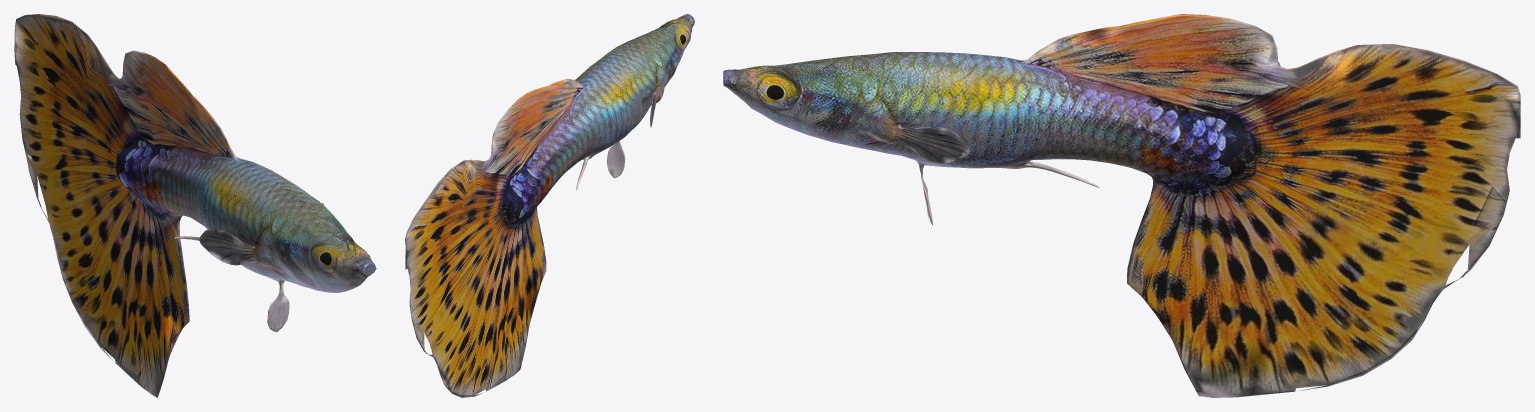
File: strain-yellow_leopard.glb
3 renders of one model, left to right at view 1: azimuth 30°, elevation 25°; view 2: azimuth 150°, elevation 25°; view 3: azimuth 270°, elevation 25°, orthographic. The views are drawn at different scales.
Visible parts, largest first — view 1: Mesh_0.001; view 2: Mesh_0.001; view 3: Mesh_0.001.
Part boxes in pixels (x1=…): Mesh_0.001: x1=14, y1=14, x2=376, y2=397; Mesh_0.001: x1=405, y1=14, x2=694, y2=397; Mesh_0.001: x1=723, y1=14, x2=1520, y2=397.
Size of the model in its own units: 0.0065 by 0.0173 by 0.0326.
Materials: 2 (2 with a texture image).
